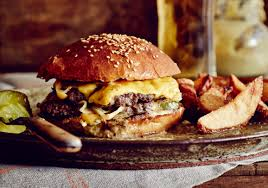hamburger: (36, 31, 187, 144)
